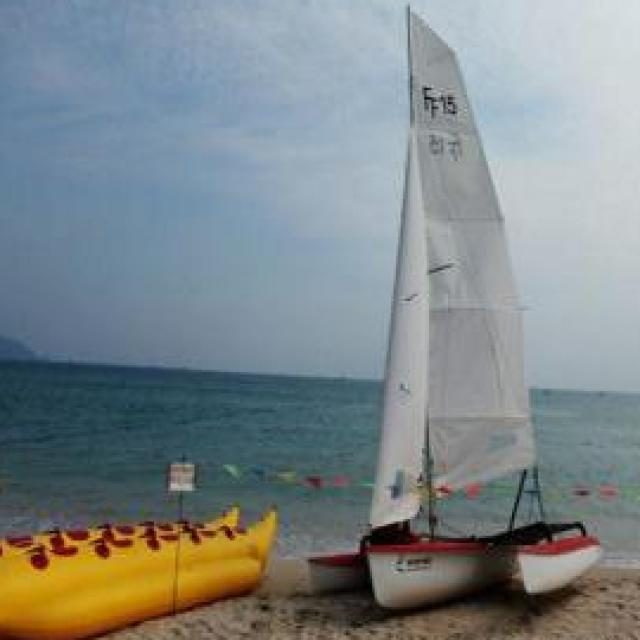sailboat: (318, 0, 600, 602)
